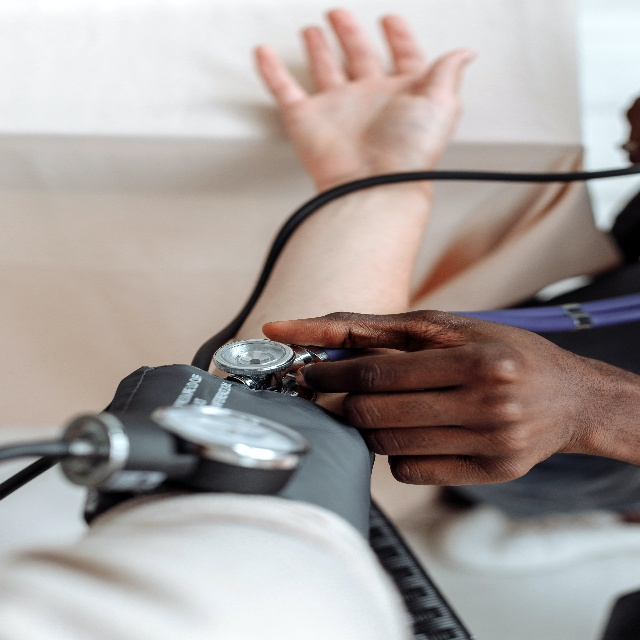Sin_guantes: (262, 305, 574, 501), (251, 0, 475, 178)
